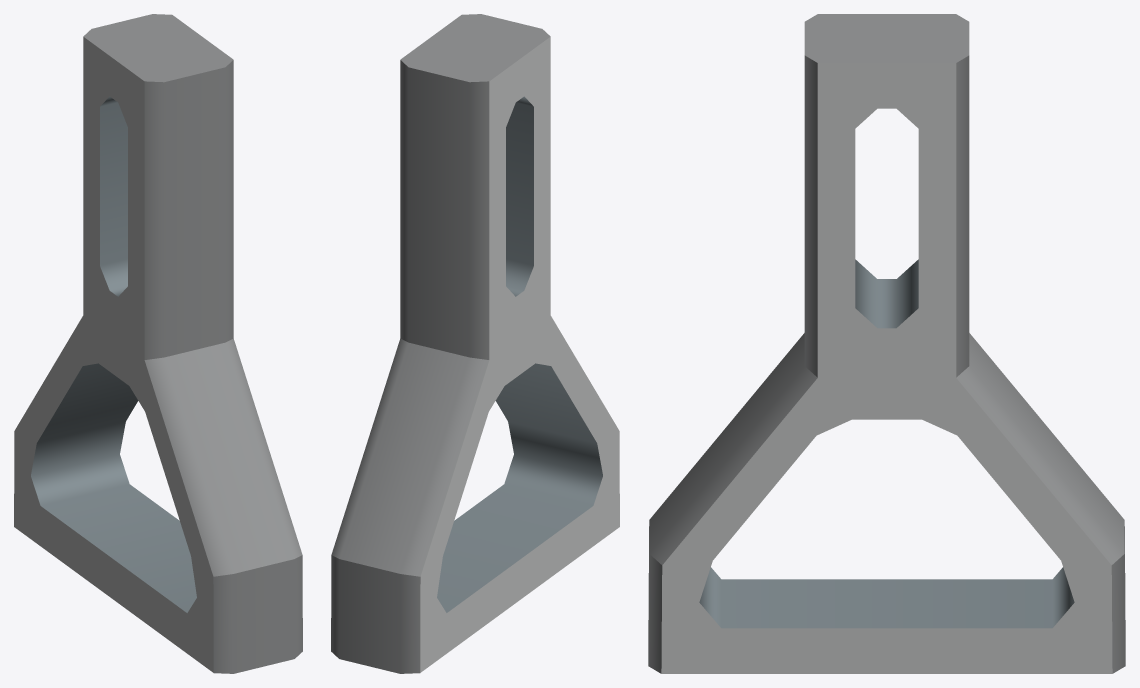
Rendered from Short_column_002.fbx.
3 views of the same model, side by side, from view 1: azimuth 30°, elevation 25°; view 2: azimuth 150°, elevation 25°; view 3: azimuth 270°, elevation 25° (orthographic). The views are drawn at different scales.
Parts seen in each view (by area): view 1: Short_column_002; view 2: Short_column_002; view 3: Short_column_002.
Part boxes in pixels (bbox=[...]): Short_column_002: bbox=[14, 14, 302, 673]; Short_column_002: bbox=[331, 14, 619, 673]; Short_column_002: bbox=[648, 14, 1125, 673].
Bounding box in the file's own units: 22.41 × 92.03 × 130.
